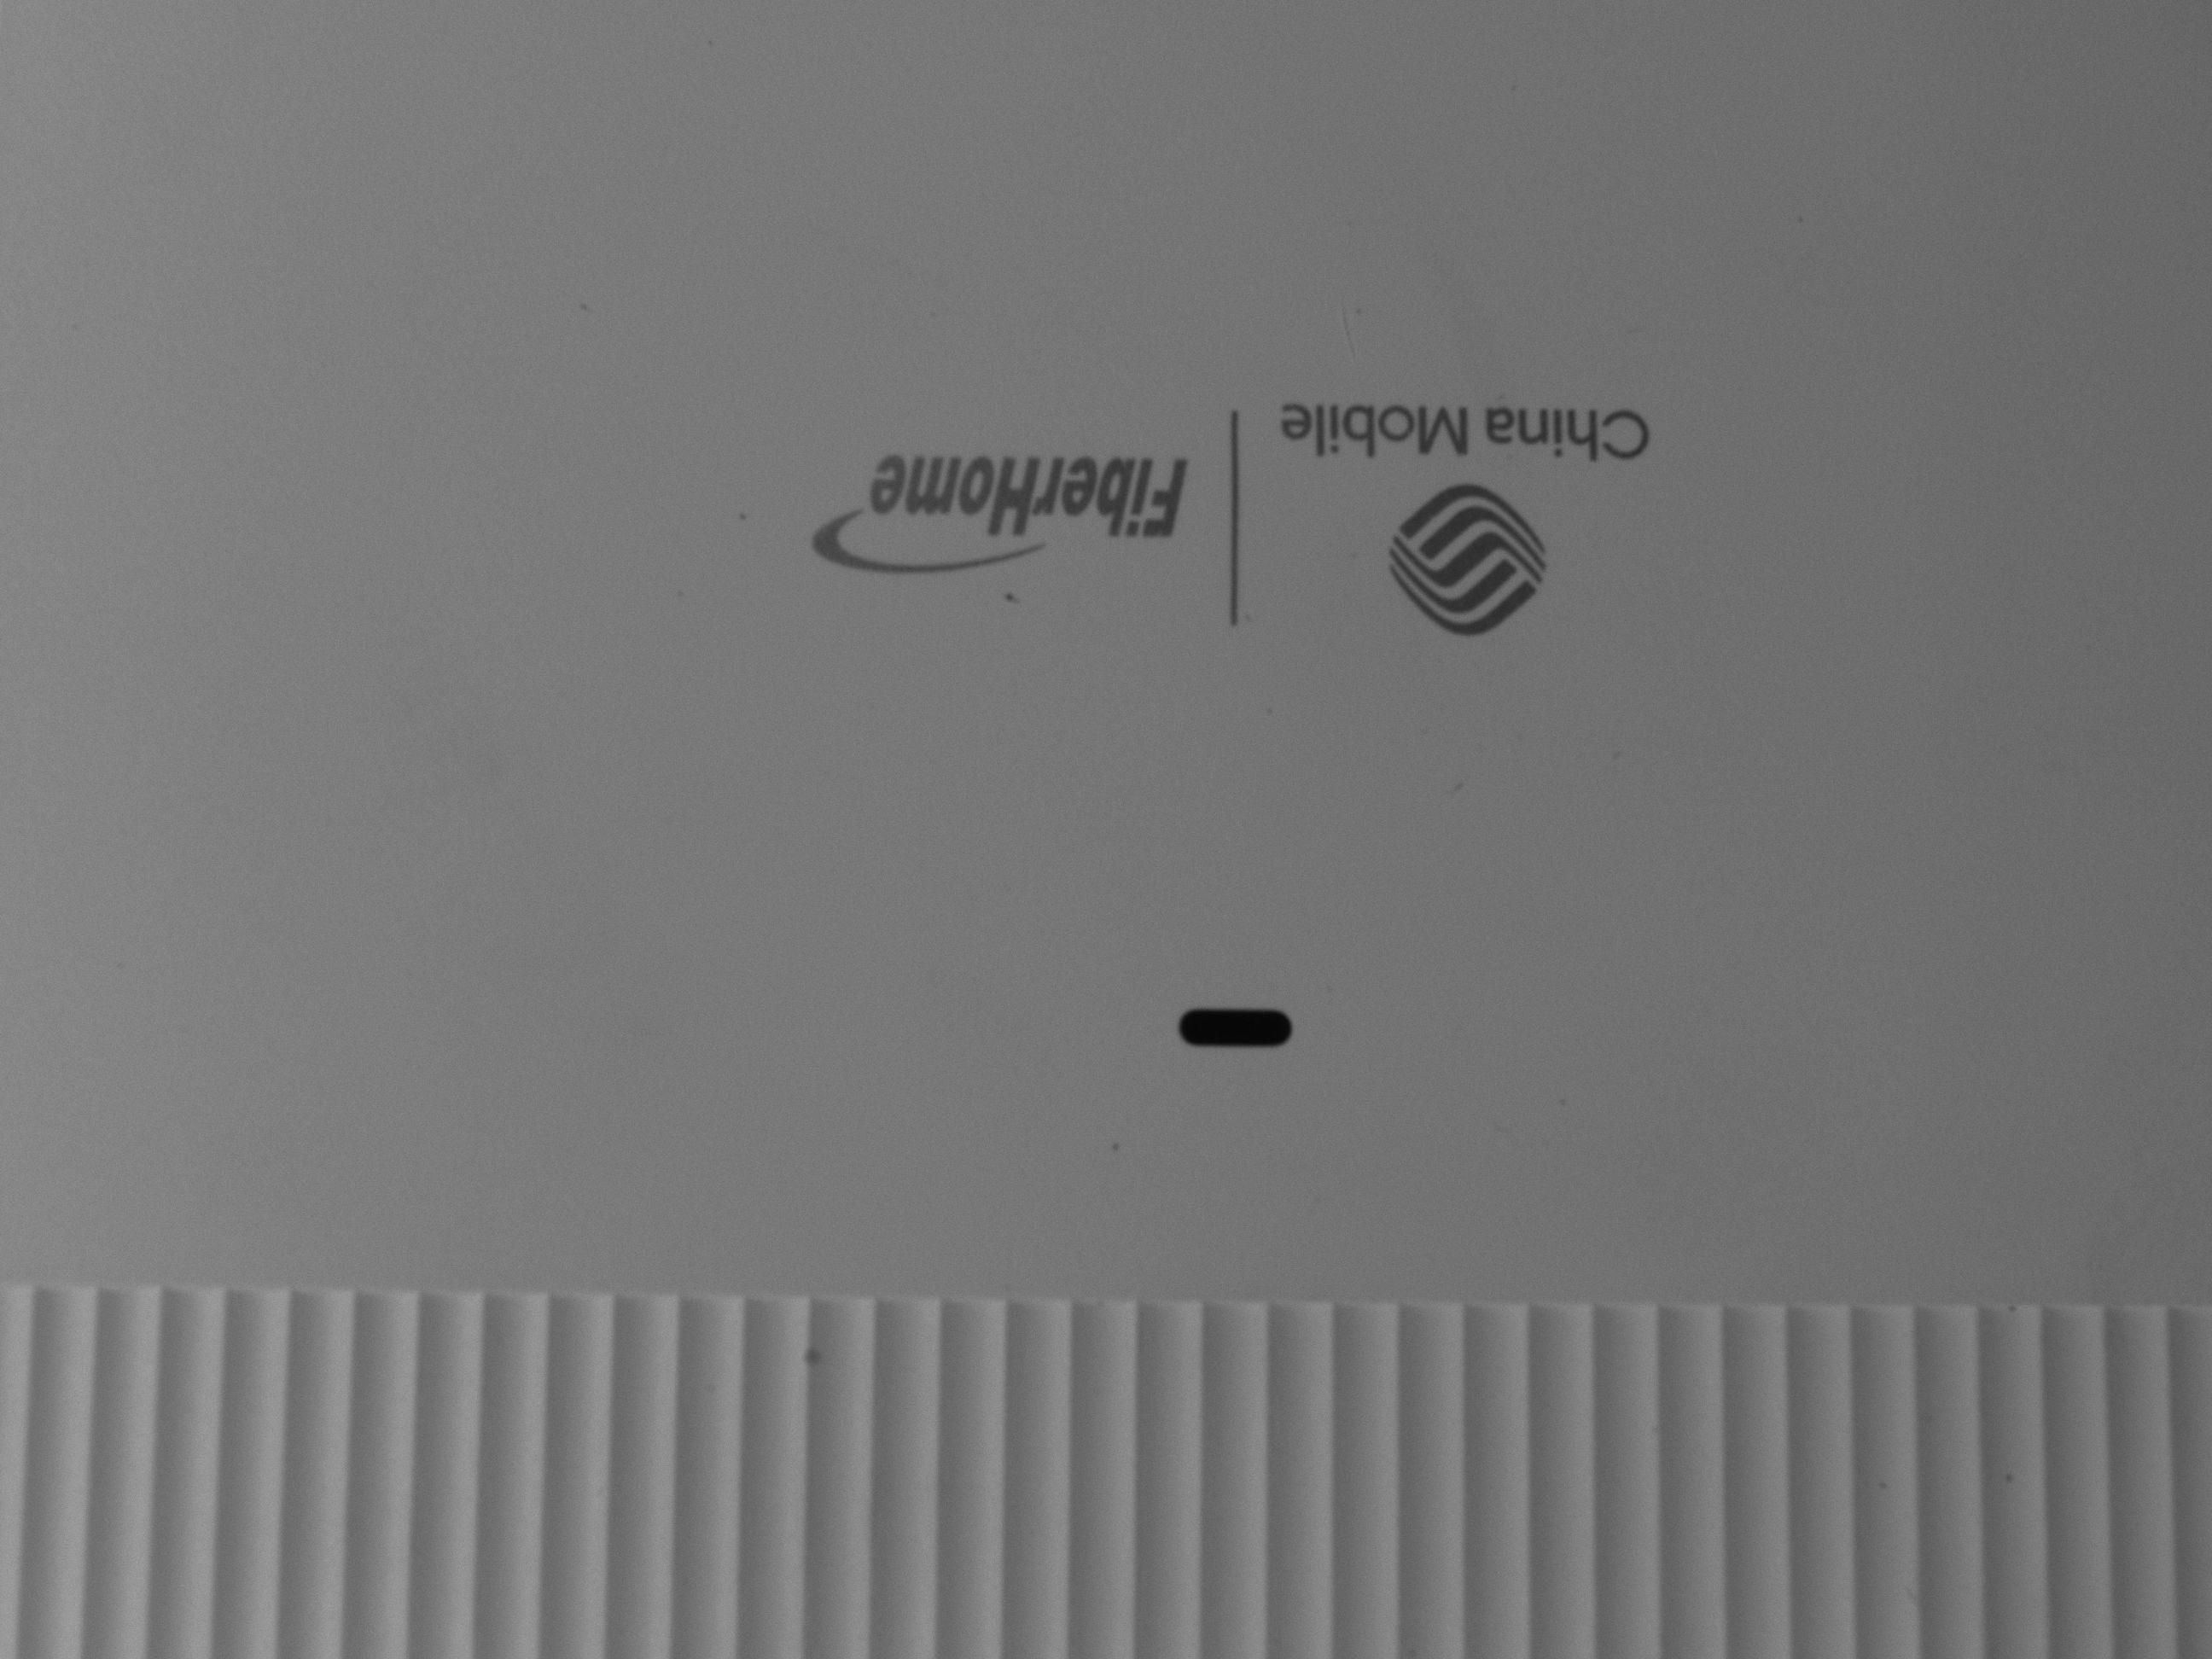BX_HG6371FMobileFiberhome: (780, 307, 1658, 643)
